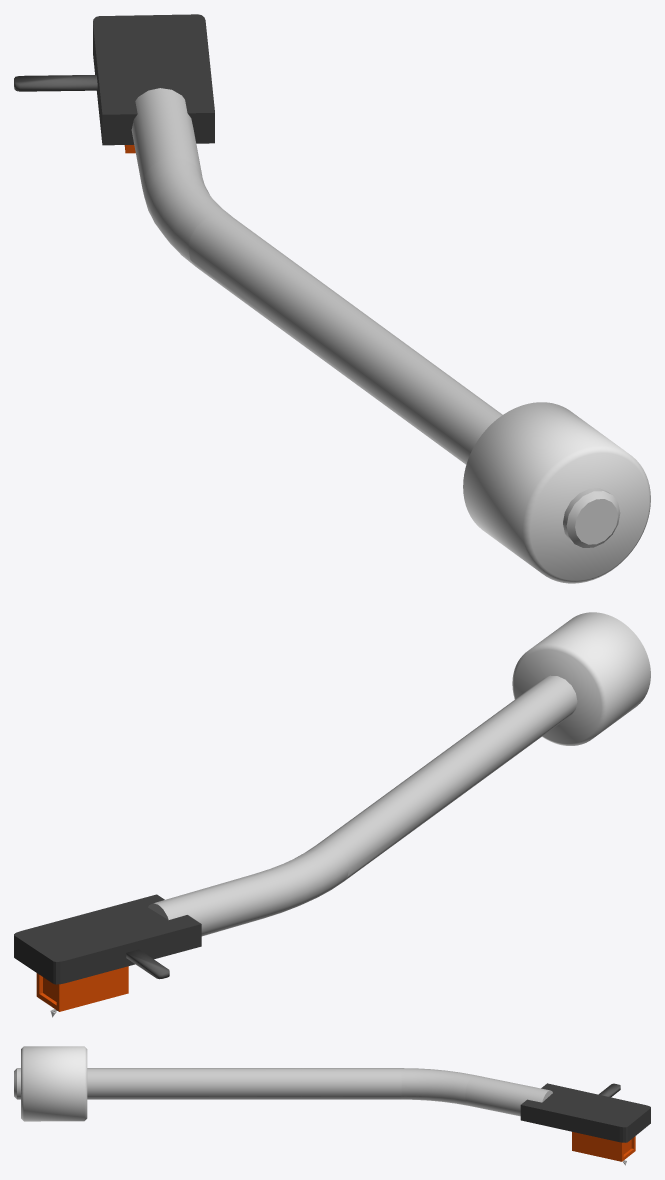
Rendered from arm.glb.
The picture shows the model from 3 angles, top to bottom: view 1: azimuth 30°, elevation 25°; view 2: azimuth 150°, elevation 25°; view 3: azimuth 270°, elevation 25°; orthographic projection. The views are drawn at different scales.
Parts seen in each view (by area): view 1: Arm, Weight, Head, Handle; view 2: Arm, Weight, Head, Cartridge, Handle; view 3: Arm, Weight, Head, Cartridge.
Boxes of the visible parts, x1,y1,x2,y2 form: Arm: (131, 88, 620, 547); Weight: (463, 402, 650, 583); Head: (93, 14, 214, 145); Handle: (14, 75, 97, 91); Arm: (148, 675, 577, 936); Weight: (512, 612, 650, 745); Head: (14, 894, 201, 984); Cartridge: (36, 966, 128, 1011); Handle: (126, 949, 169, 979); Arm: (14, 1068, 552, 1116); Weight: (21, 1046, 87, 1121); Head: (520, 1083, 650, 1142); Cartridge: (572, 1132, 635, 1161).
Bounding box in the file's own units: 0.7066 × 0.3797 × 2.83.
